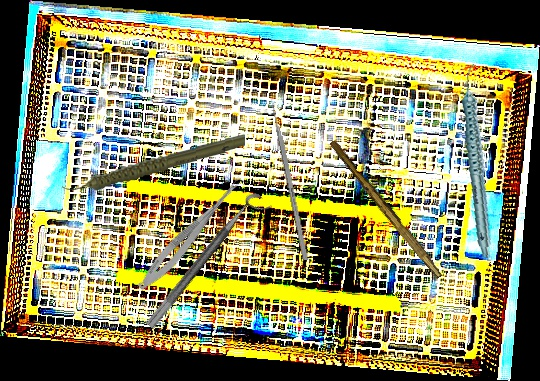Fixation Ring: (144, 189, 273, 339)
Handpiece: (439, 62, 517, 259), (60, 132, 247, 194)
Micro Scissor: (133, 169, 247, 297)
Pusher: (267, 91, 309, 261)
Scalpel Handle: (326, 138, 447, 280)
